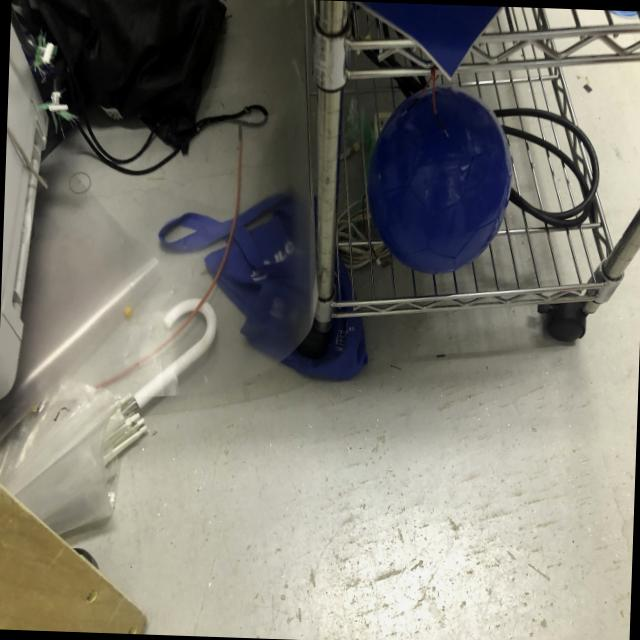blue_ball: (370, 80, 512, 278)
